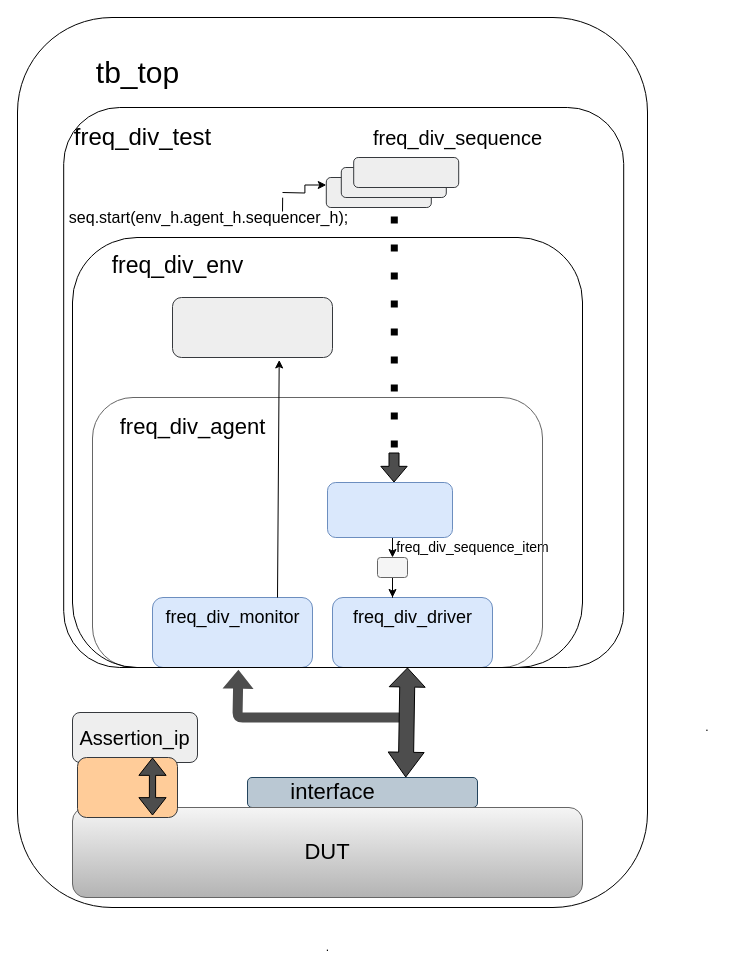
This 745x975 diagram has some shape labels left out. The shapes that lost their labels are listed below. From the top down, each one's centre as x and y in pixels, then its label:
At (x=252, y=327): "freq_div_coverage".
At (x=389, y=510): "freq_div_sequencer".
At (x=127, y=787): "Binding Module".
